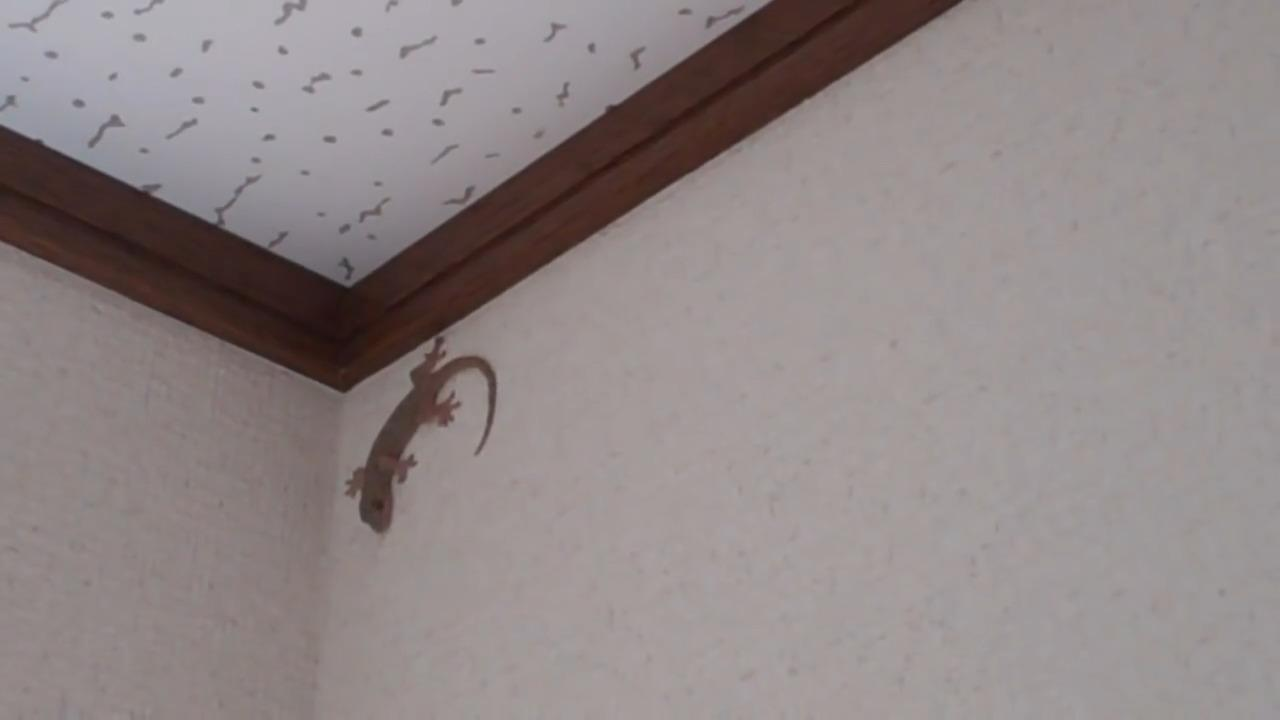lizard: (337, 337, 538, 531)
